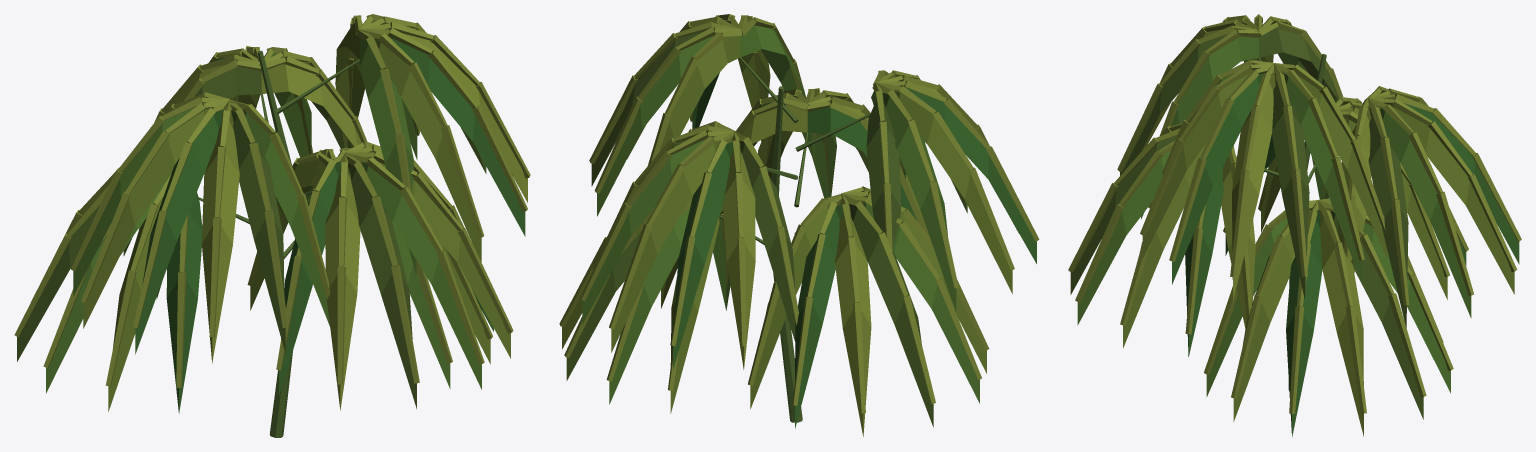
The model's file is mandioca_broto.glb.
3 renders of one model, left to right at view 1: azimuth 30°, elevation 25°; view 2: azimuth 150°, elevation 25°; view 3: azimuth 270°, elevation 25°, orthographic. The views are drawn at different scales.
Visible parts, largest first — view 1: mandioca_broto.006; view 2: mandioca_broto.006; view 3: mandioca_broto.006.
Part boxes in pixels (box(x1,y1,x2,y2)): mandioca_broto.006: box(14, 14, 530, 437); mandioca_broto.006: box(559, 14, 1039, 436); mandioca_broto.006: box(1068, 14, 1521, 437).
Size of the model in its own units: 0.307 by 0.2697 by 0.3067.
